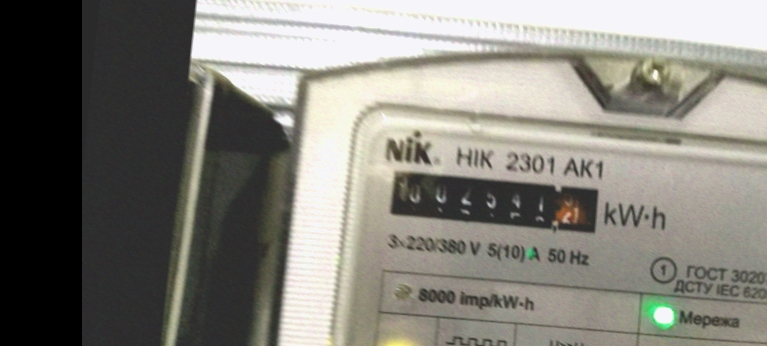0: (405, 176, 425, 204), (433, 176, 449, 204)
1: (532, 185, 548, 213)
2: (457, 179, 475, 205)
4: (509, 183, 524, 207)
5: (481, 180, 502, 210)
6: (558, 204, 575, 224)
screen: (376, 152, 615, 246)
